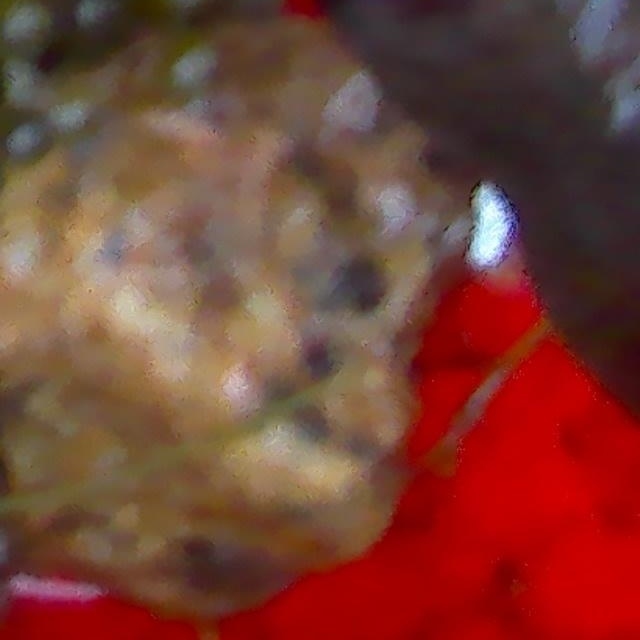SeaGrape: (67, 0, 135, 51), (0, 3, 54, 63)
